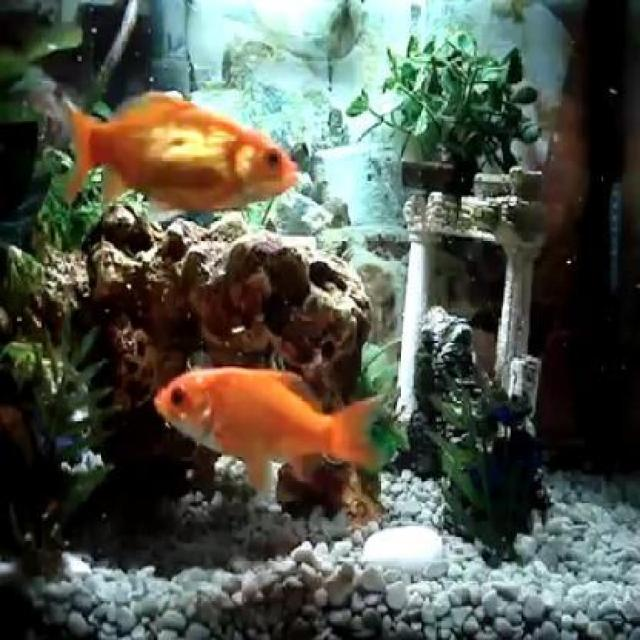GoldFish: (156, 364, 379, 505), (69, 91, 297, 218)
